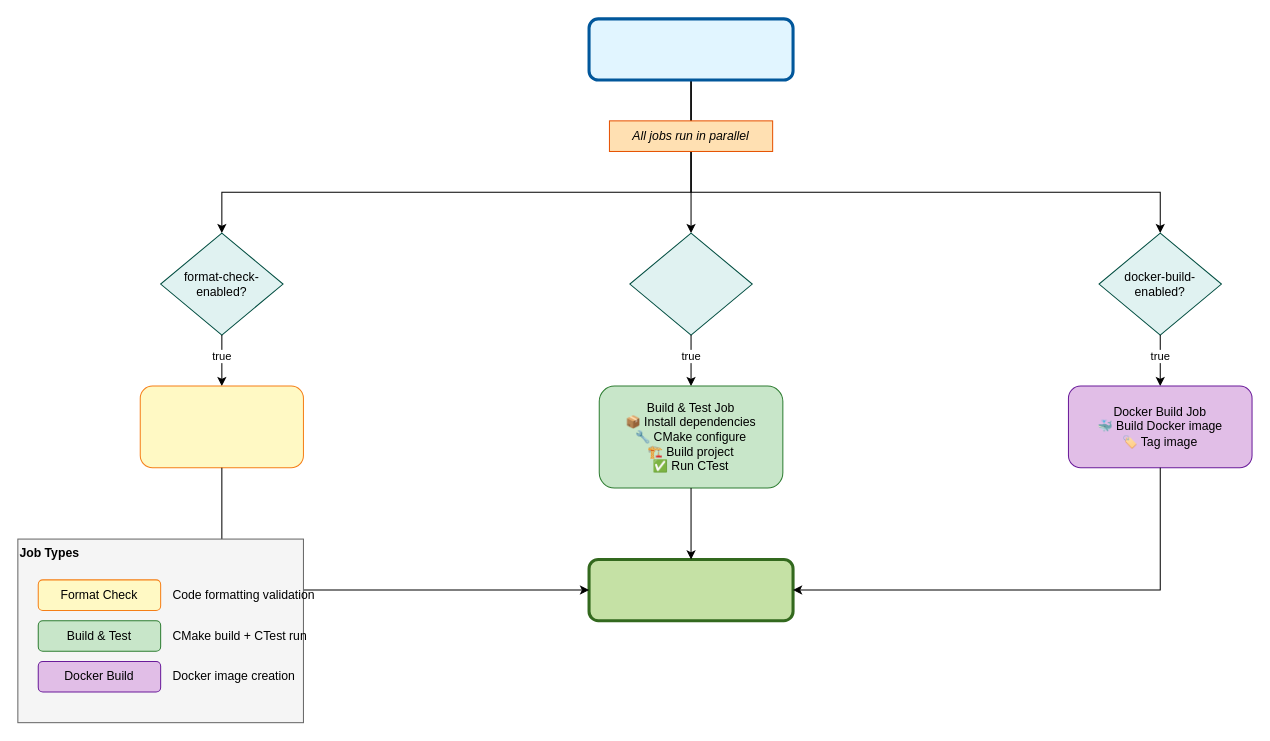
Image size: 1270x741. Some labels were removed from this diagram. Each missing label, with the box of its shape:
Format Check Job 📝 Install clang-format 🔍 Check .cpp/.hpp files: (139, 385, 303, 468)
tests-enabled?: (629, 232, 752, 335)
✅ Workflow Complete: (587, 557, 794, 622)
🚀 Workflow Triggered: (587, 17, 794, 81)
